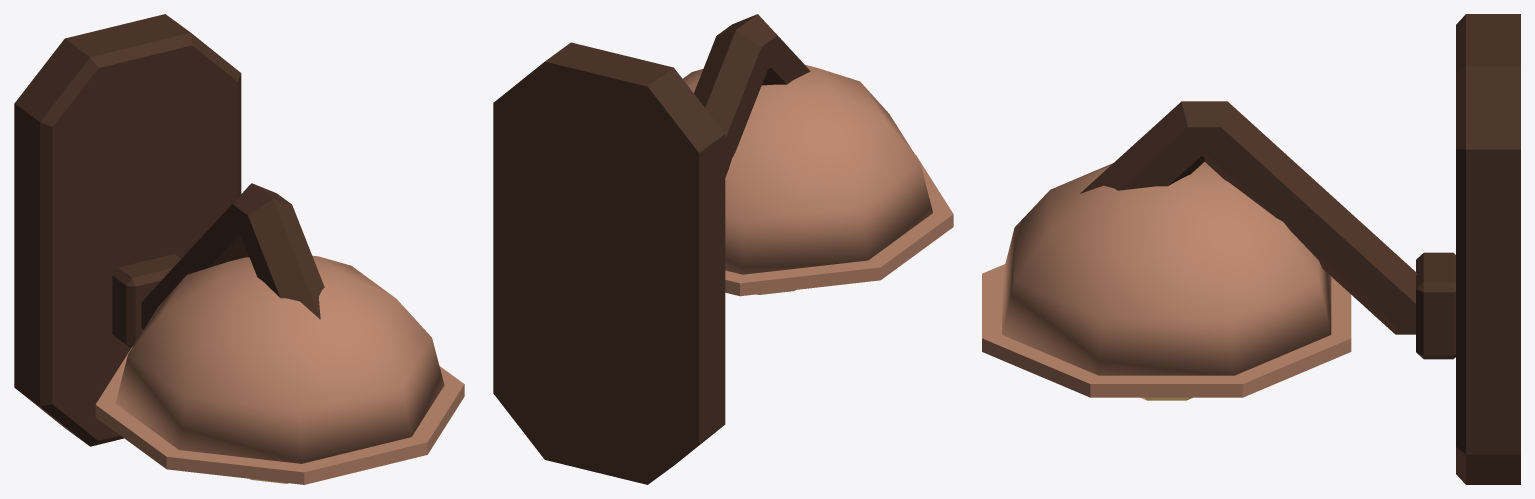
Rendered from HoodSconce.fbx.
3 renders of one model, left to right at view 1: azimuth 30°, elevation 25°; view 2: azimuth 150°, elevation 25°; view 3: azimuth 270°, elevation 25°, orthographic. The views are drawn at different scales.
Visible parts, largest first — view 1: HoodSconce_Wood, HoodSconce_Shade, HoodSconce_Brim; view 2: HoodSconce_Wood, HoodSconce_Shade, HoodSconce_Brim; view 3: HoodSconce_Wood, HoodSconce_Shade, HoodSconce_Brim.
Boxes of the visible parts, x1=… form: HoodSconce_Wood: x1=14, y1=14, x2=324, y2=446; HoodSconce_Shade: x1=115, y1=255, x2=444, y2=463; HoodSconce_Brim: x1=95, y1=346, x2=464, y2=484; HoodSconce_Wood: x1=493, y1=14, x2=810, y2=484; HoodSconce_Shade: x1=683, y1=65, x2=932, y2=274; HoodSconce_Brim: x1=725, y1=154, x2=953, y2=296; HoodSconce_Wood: x1=1080, y1=14, x2=1520, y2=484; HoodSconce_Shade: x1=1002, y1=162, x2=1331, y2=375; HoodSconce_Brim: x1=982, y1=264, x2=1351, y2=397.
Bounding box in the file's own units: 1.48 × 1.85 × 2.16.
